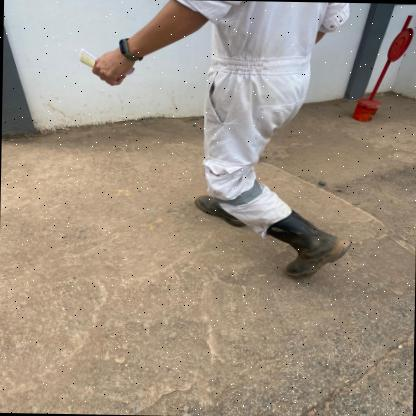bota: (262, 208, 354, 280), (196, 195, 246, 225)
